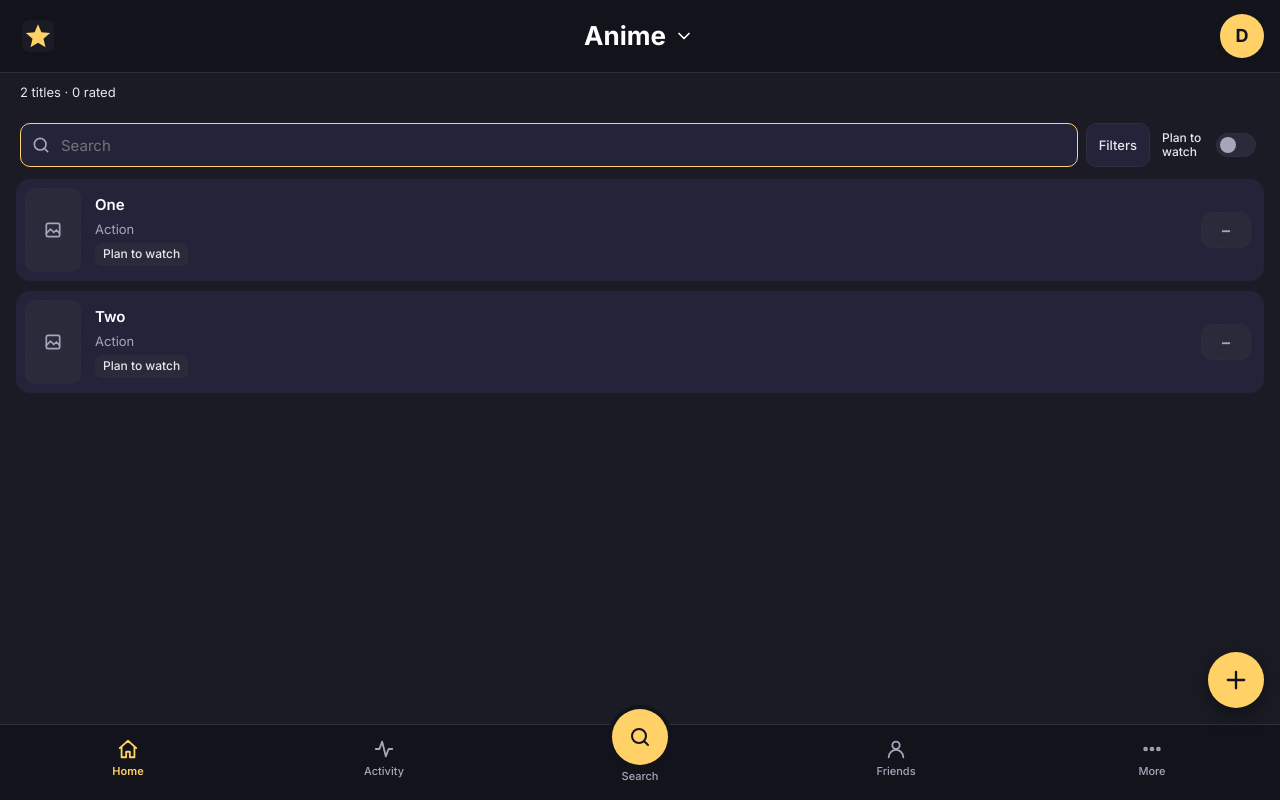
Test: Plan to watch view › reordering › a failed save puts the old order back and says so
Expected: the text "One" is shown, [95,194,125,215]
Click the switch labelled "Plan to watch" at x=1209, y=145, box [1158,123,1260,167]
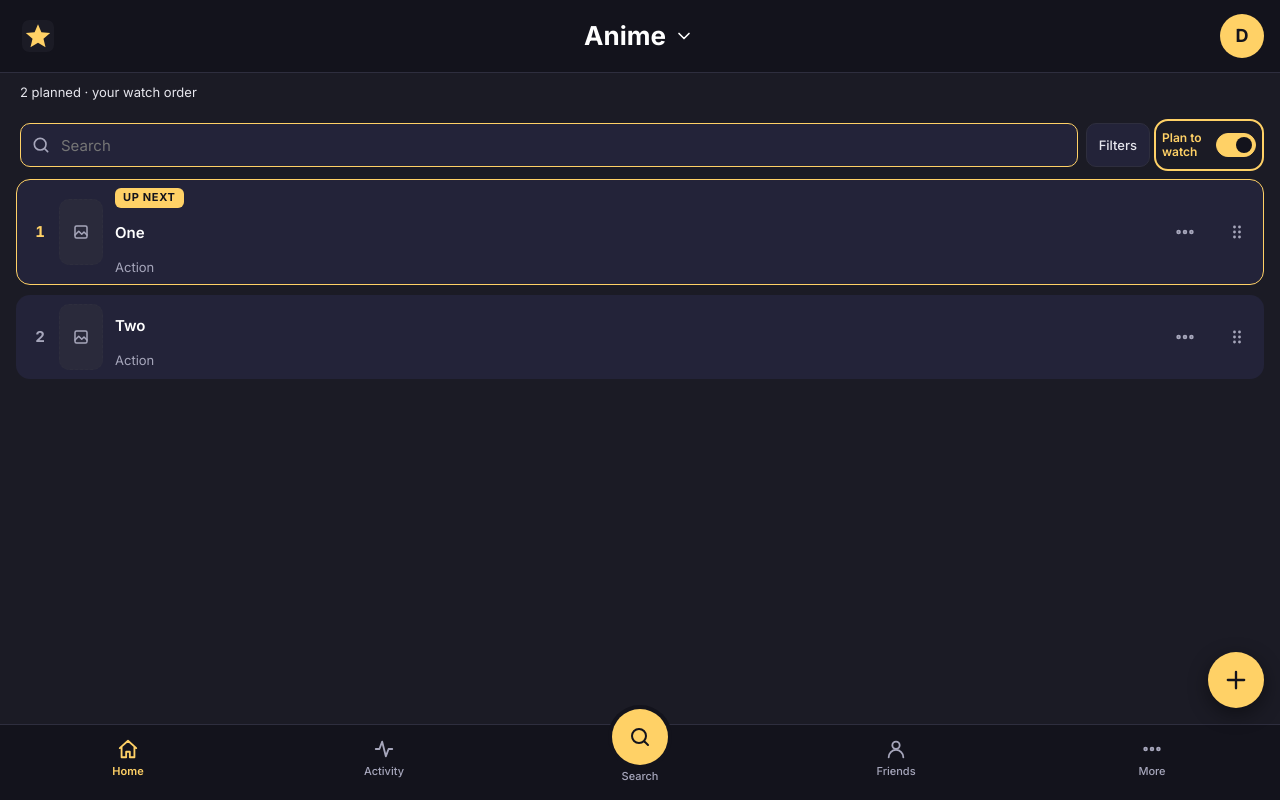
Click the button named "More actions for One" at x=1185, y=232, box [1163,210,1207,254]
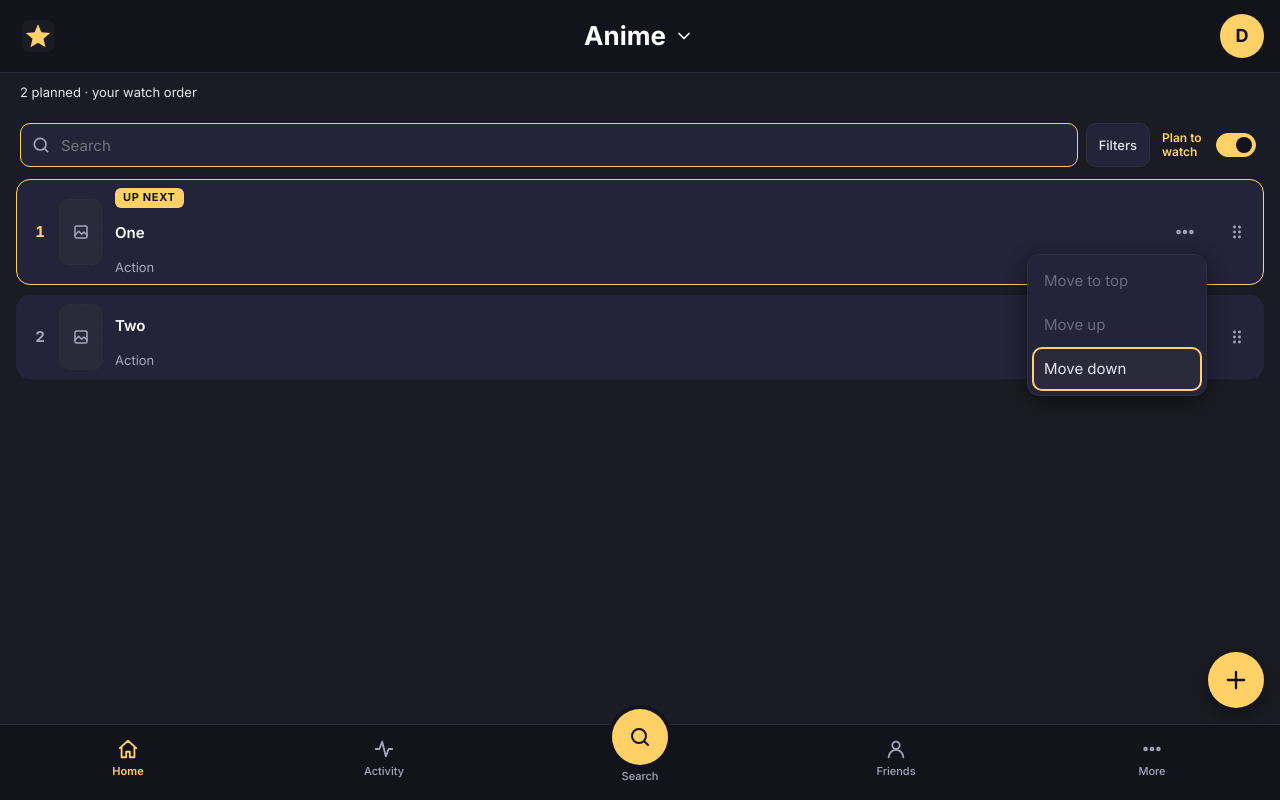
Click the menu item "Move down" at x=1117, y=369, box [1032,347,1202,391]
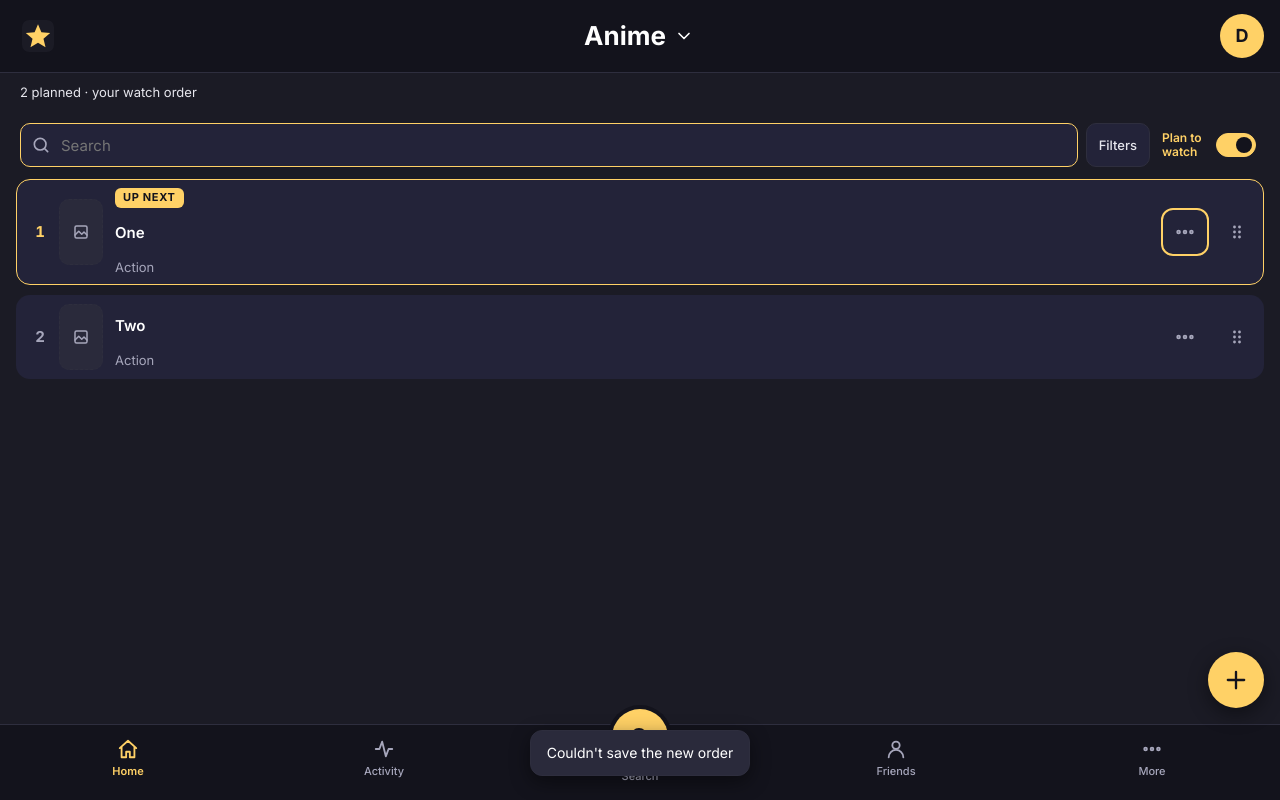
Expected: the text "Couldn't save the new order" is shown, [530,730,750,776]
